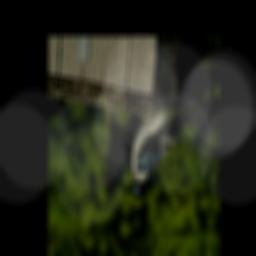Swallow: (128, 75, 210, 212)
